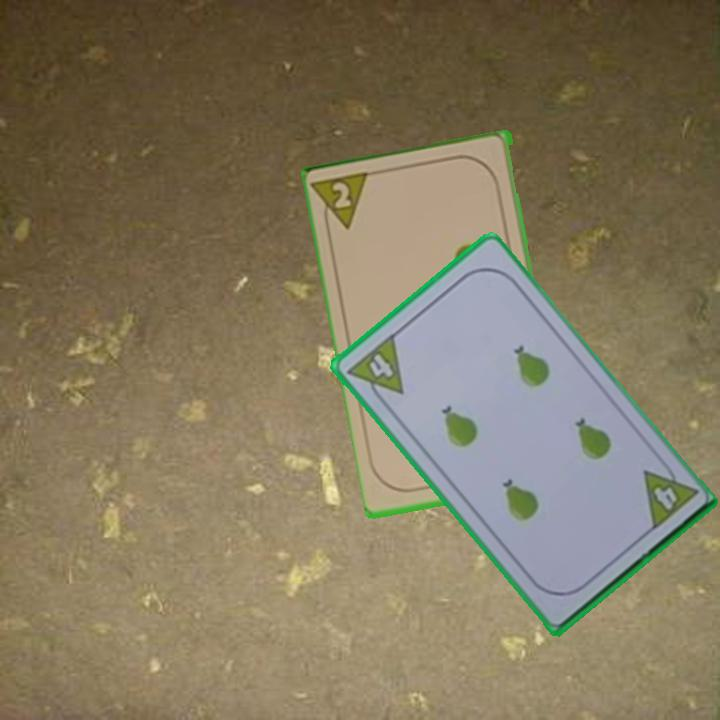2p: (311, 168, 376, 238)
4p: (343, 330, 407, 410), (639, 455, 699, 534)
